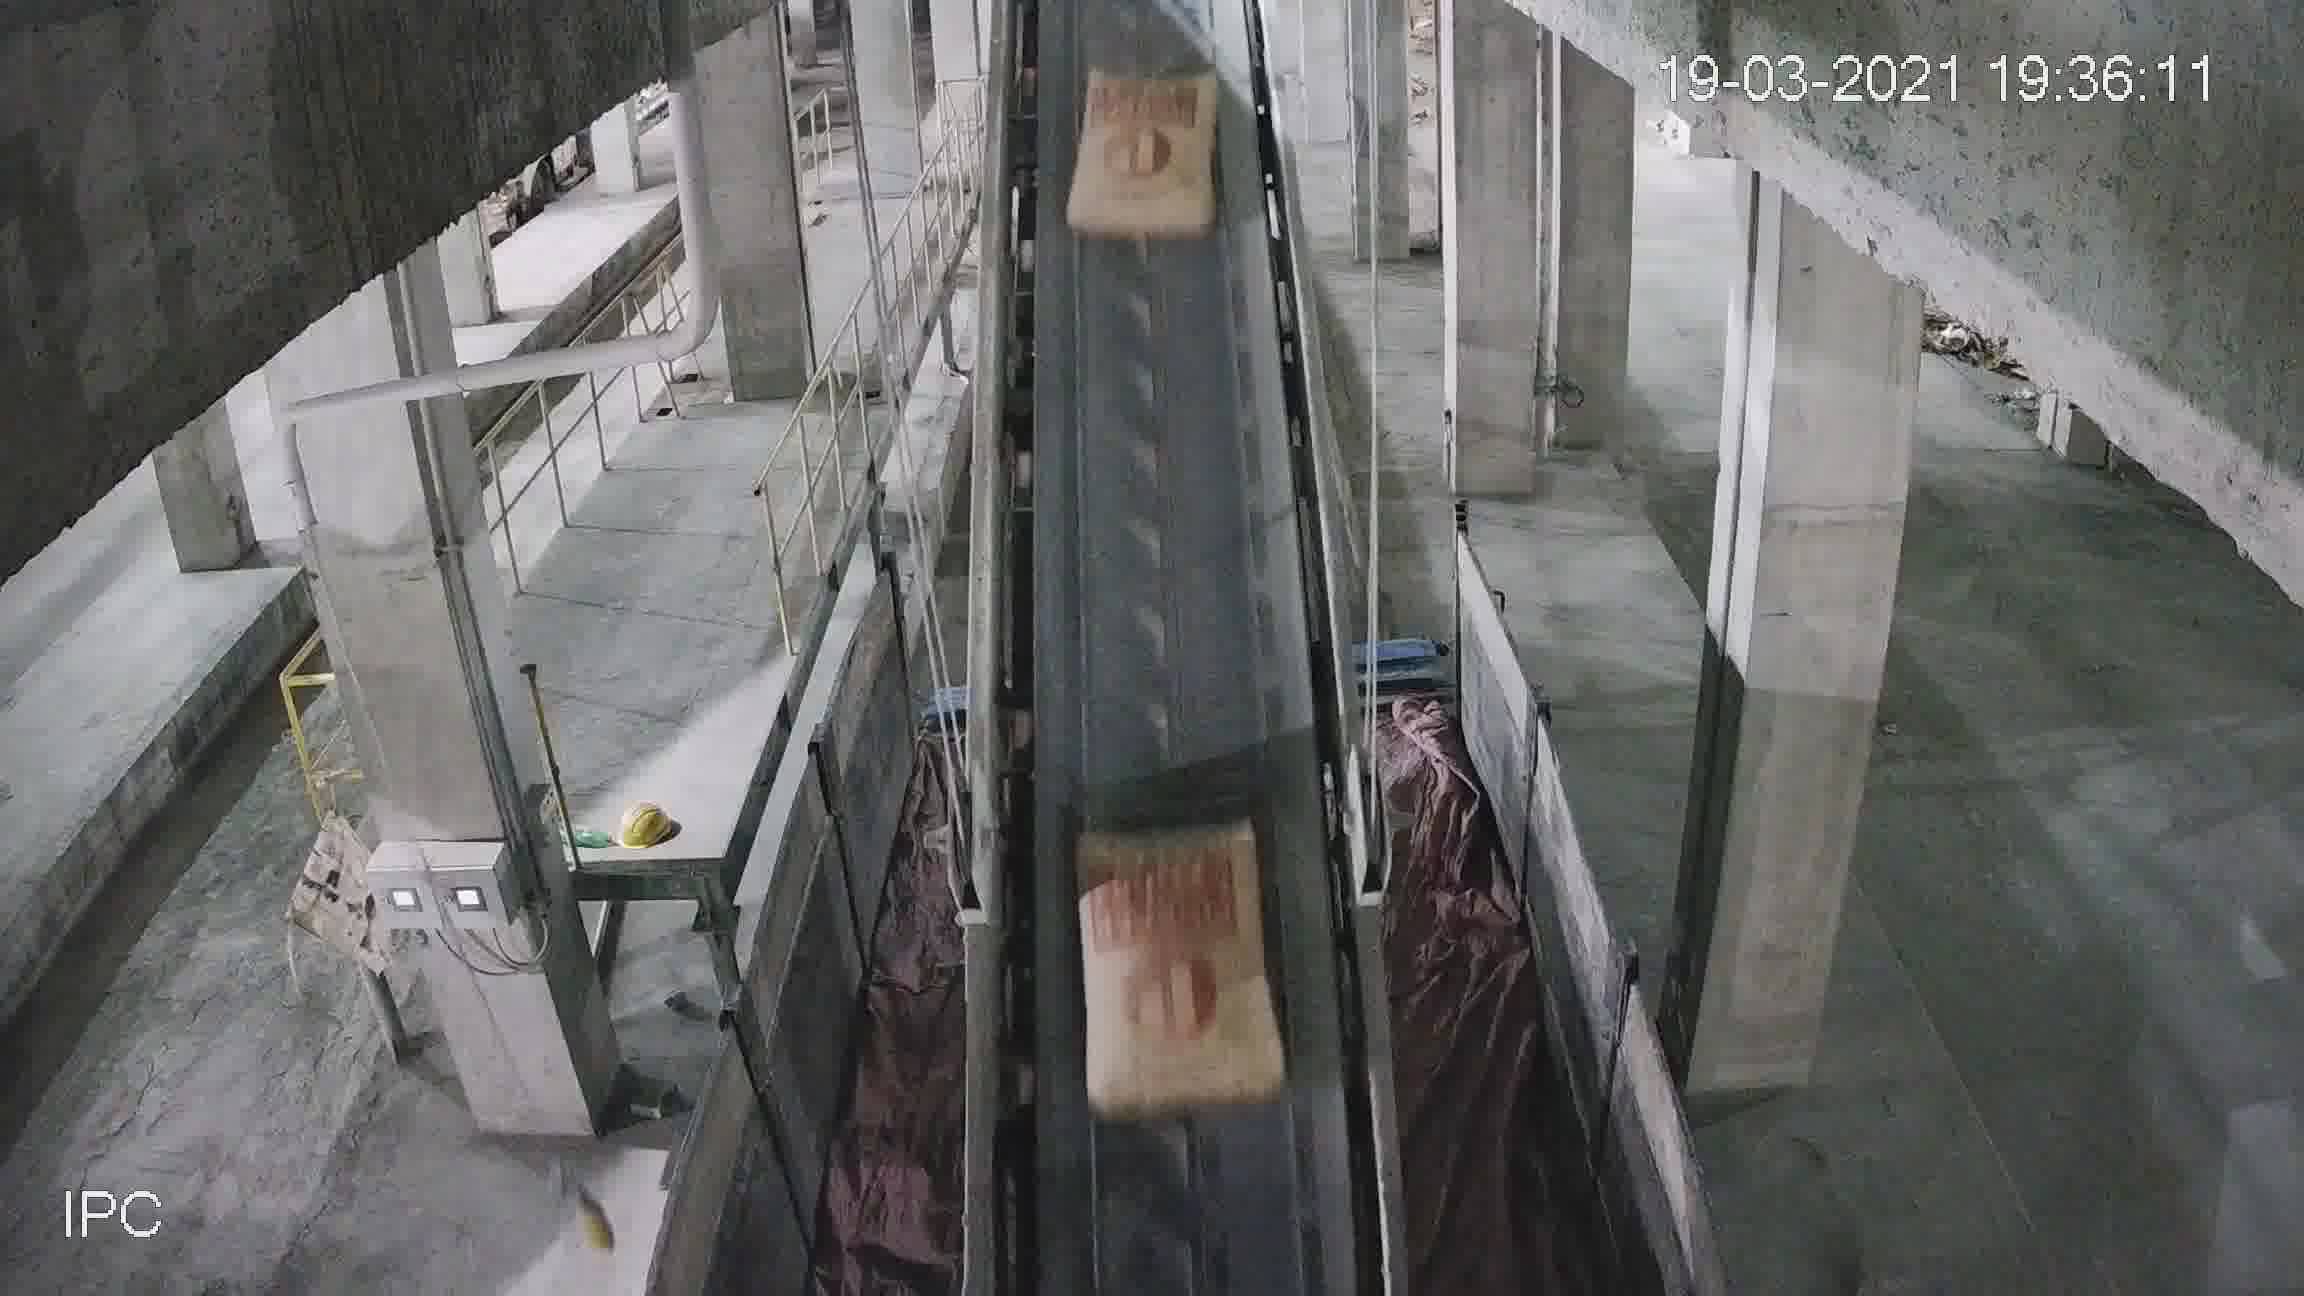bag: (1076, 824, 1280, 1106), (1073, 81, 1222, 236)
belt: (956, 43, 1427, 1294)
